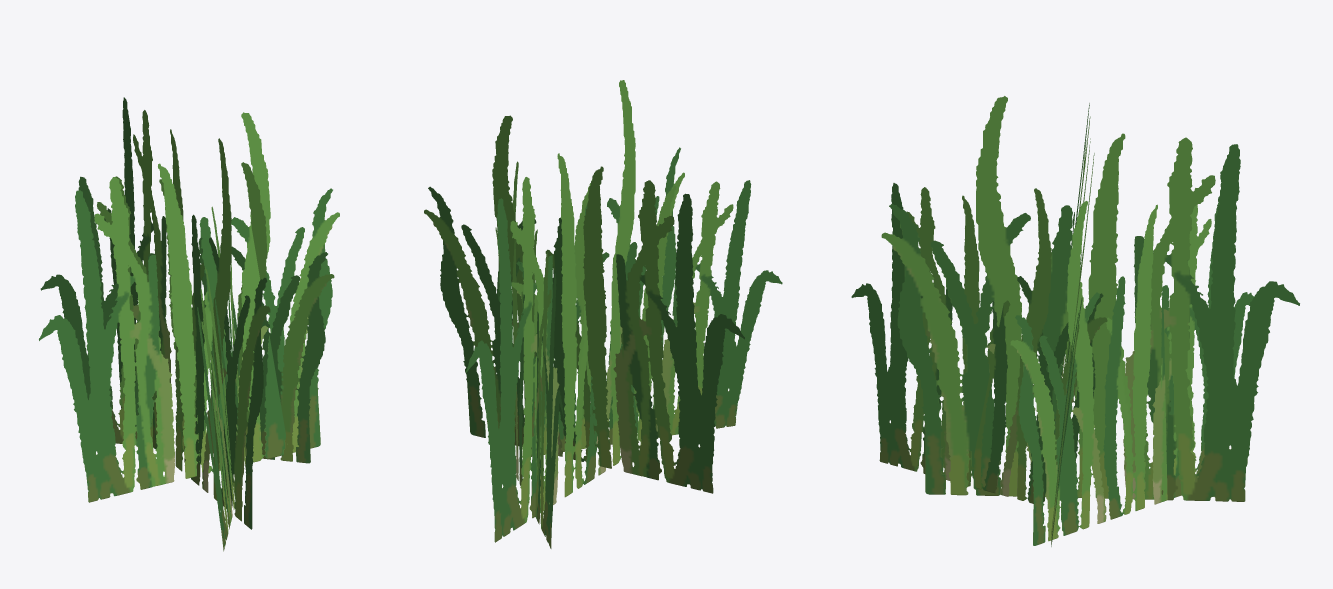
Rendered from Grassclump.fbx.
The picture shows the model from 3 angles, left to right: view 1: azimuth 30°, elevation 25°; view 2: azimuth 150°, elevation 25°; view 3: azimuth 270°, elevation 25°; orthographic projection. The views are drawn at different scales.
Parts seen in each view (by area): view 1: Grass_Clump; view 2: Grass_Clump; view 3: Grass_Clump.
Part boxes in pixels (x1,y1,x2,y2): Grass_Clump: [39, 97, 339, 551]; Grass_Clump: [424, 80, 782, 548]; Grass_Clump: [851, 96, 1299, 546].
Size of the model in its own units: 7.69 by 8.45 by 8.78.
Materials: 1 (1 with a texture image).
